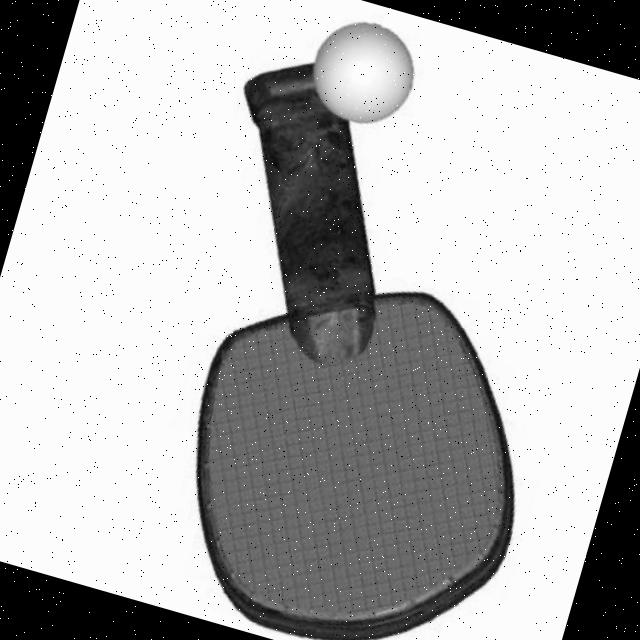ping-pong-ball: (298, 9, 428, 136)
